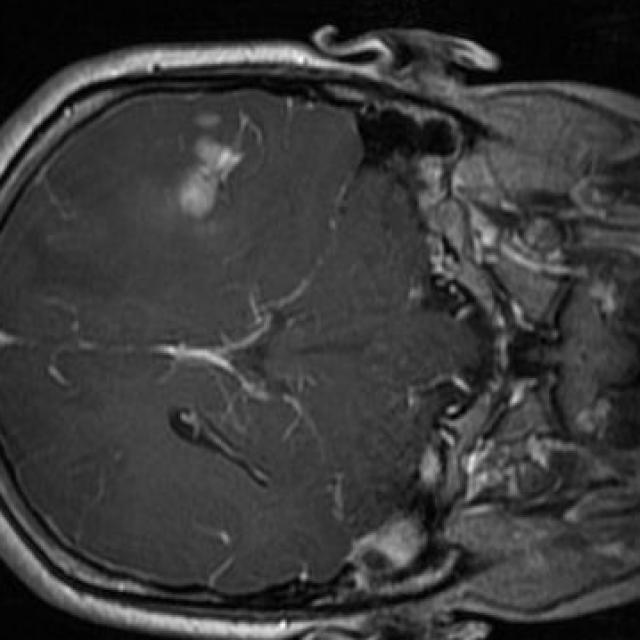glioma: (176, 112, 264, 217)
